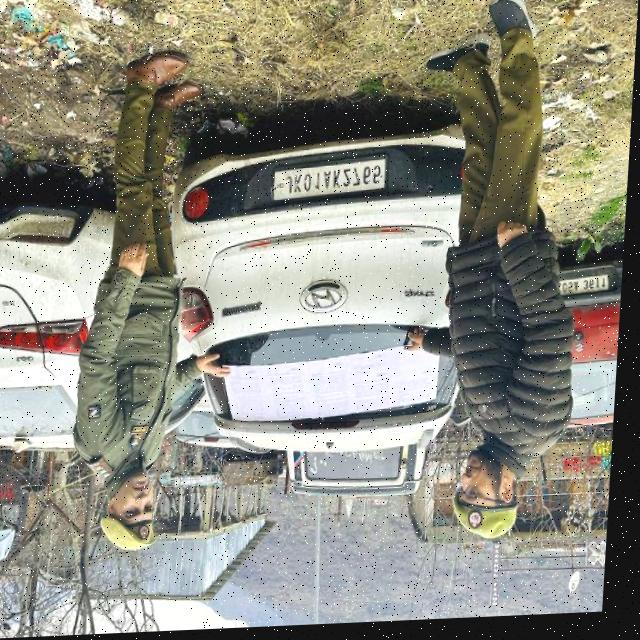plate: (269, 154, 396, 207), (563, 279, 619, 304)
